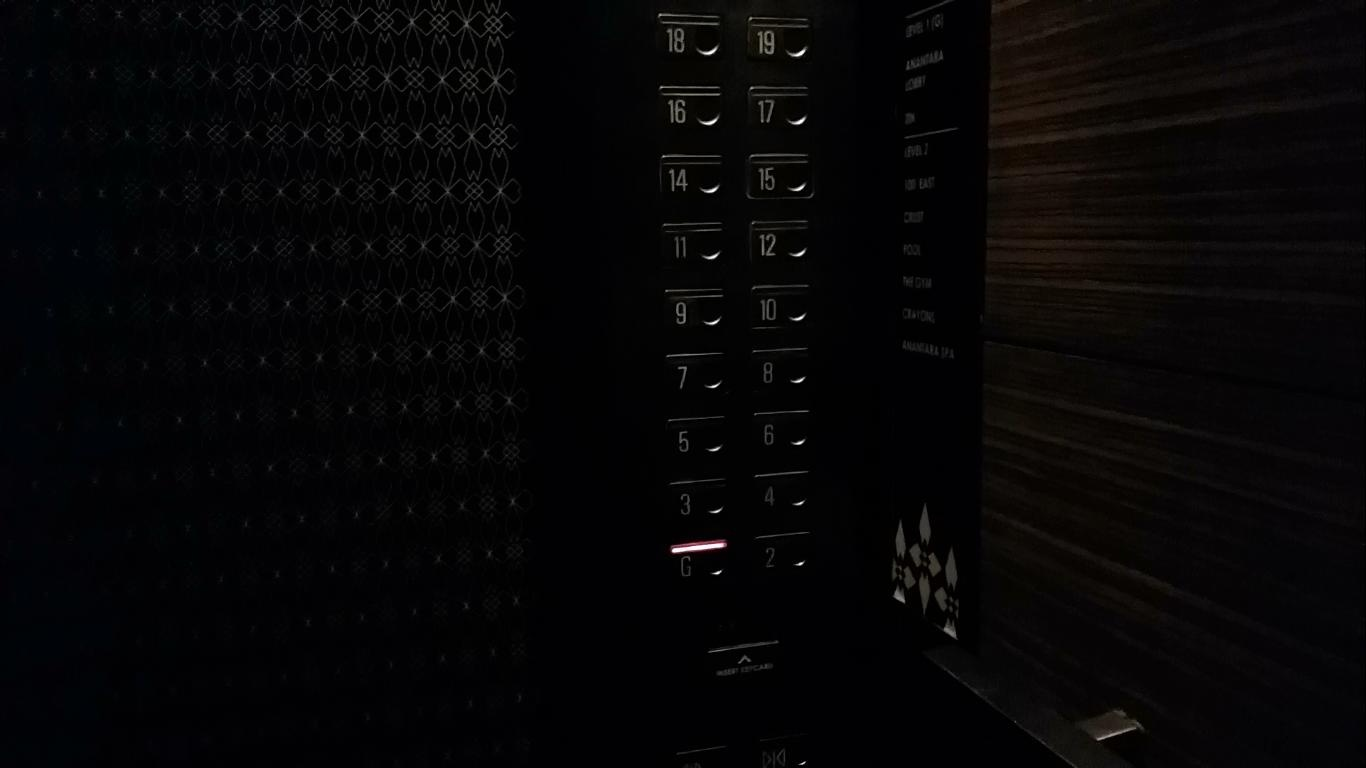10: (746, 283, 815, 333)
11: (662, 223, 730, 273)
12: (747, 219, 815, 271)
14: (657, 151, 726, 202)
15: (746, 152, 816, 202)
16: (656, 83, 726, 136)
17: (746, 83, 812, 137)
18: (655, 11, 723, 65)
19: (746, 15, 814, 69)
2: (749, 529, 819, 581)
3: (665, 475, 734, 531)
4: (752, 469, 819, 521)
5: (661, 414, 733, 466)
6: (749, 407, 818, 463)
7: (658, 351, 731, 403)
8: (748, 344, 816, 397)
9: (660, 290, 726, 337)
G: (669, 539, 732, 587)
